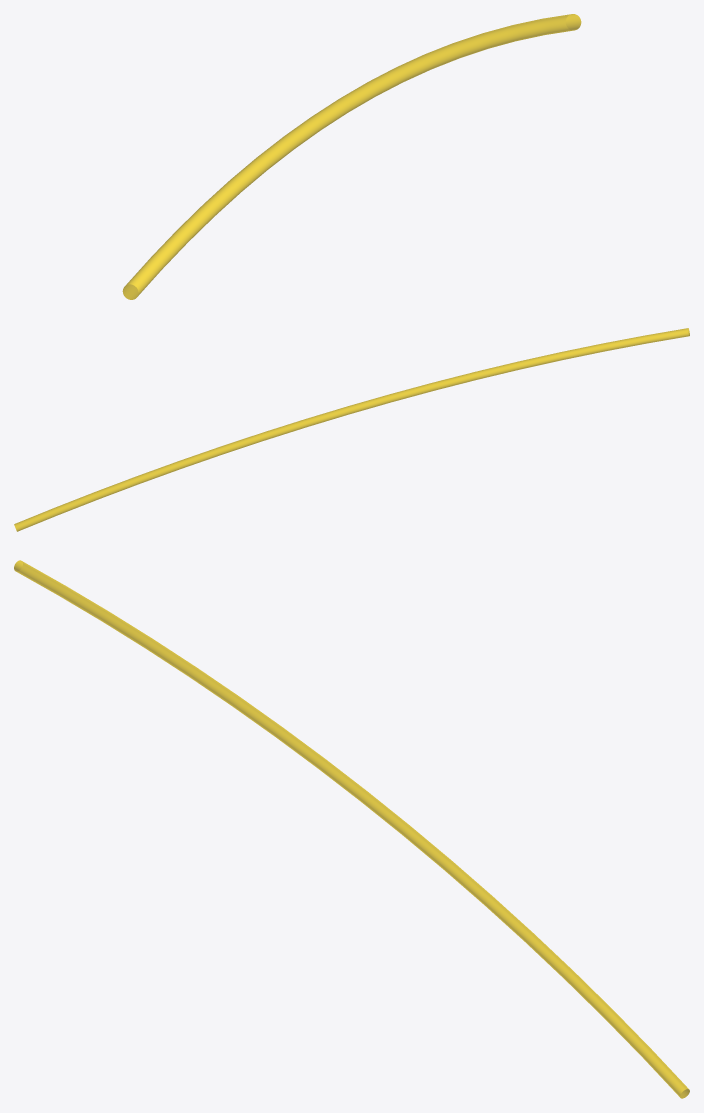
File: Event_100608114_track_34.fbx
3 renders of one model, top to bottom at view 1: azimuth 30°, elevation 25°; view 2: azimuth 150°, elevation 25°; view 3: azimuth 270°, elevation 25°, orthographic. The views are drawn at different scales.
Parts seen in each view (by area): view 1: Model; view 2: Model; view 3: Model.
Part boxes in pixels (left/top/right/bottom): Model: left=122, top=14, right=581, bottom=299; Model: left=14, top=328, right=689, bottom=531; Model: left=14, top=560, right=689, bottom=1098.
Bounding box in the file's own units: 2.51 × 0.7795 × 2.2.
